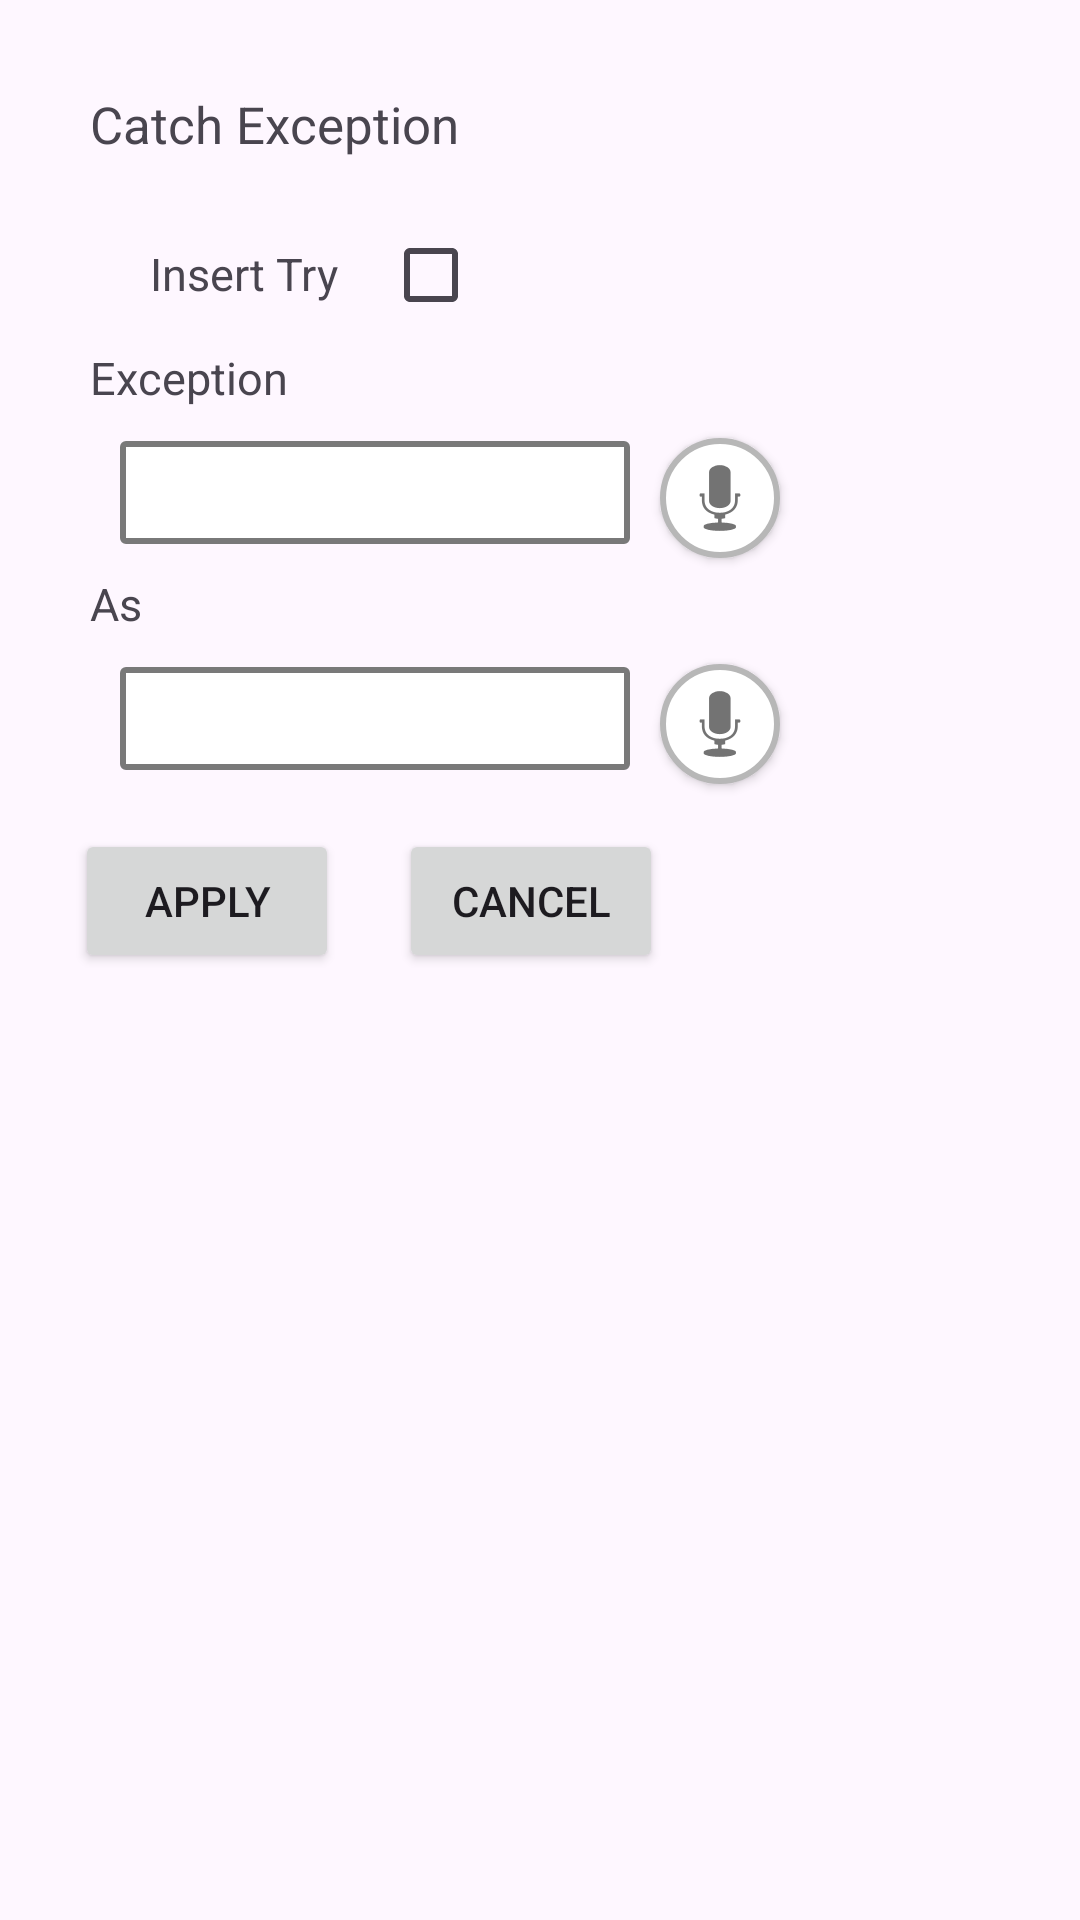

Screen size 1080×1920. Icon name, then its center in pixels as [x,y]:
microphone: [720,498], [720,724]
